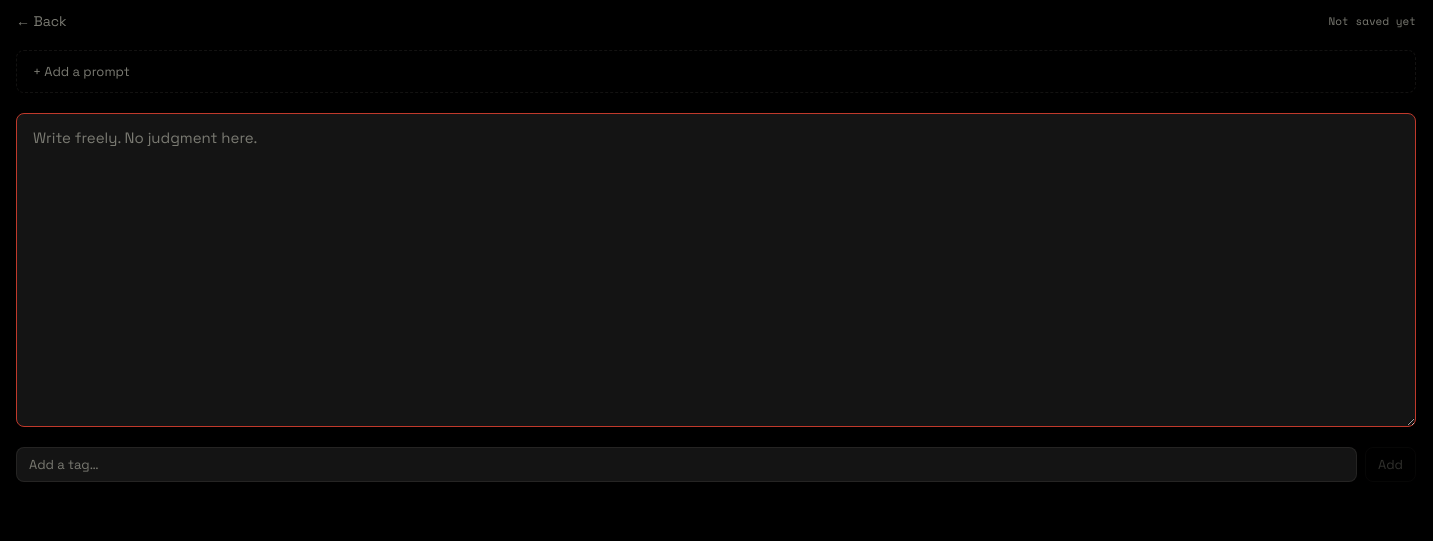
Test: JournalEntry — new entry mode › shows prompt box when "Add a prompt" is clicked
Click the button "+ Add a prompt".
click(81, 72)  # box [16,50,1416,93]
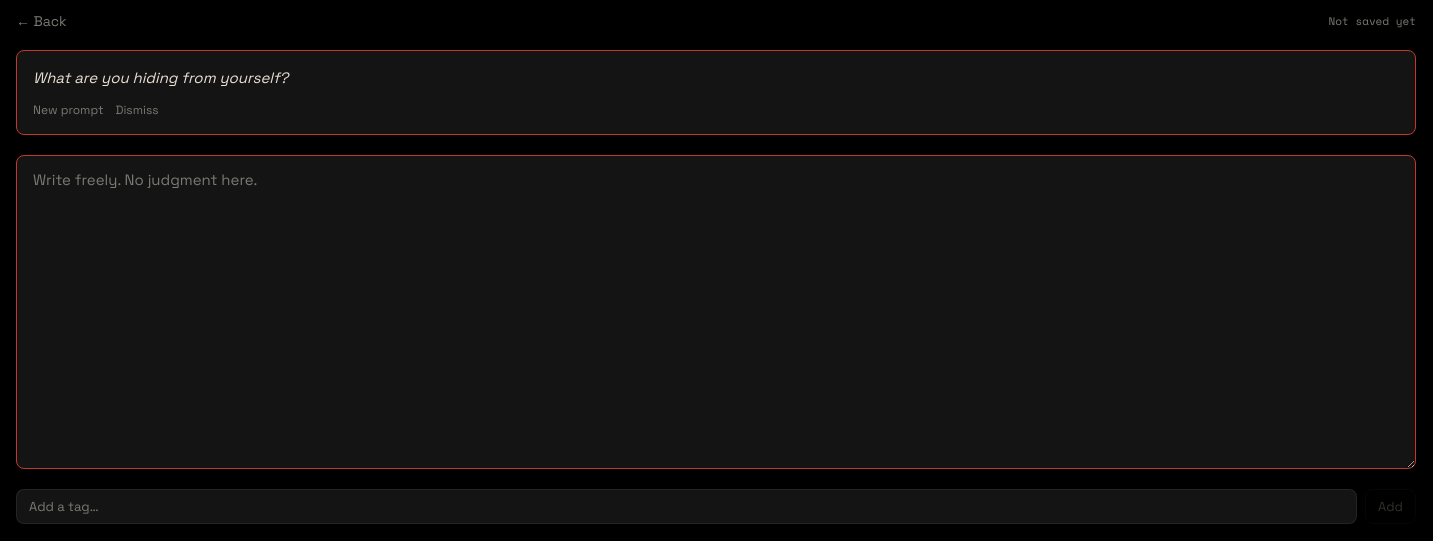
Check: the text "What are you hiding from yourself?" is shown, box [33,68,288,87]
